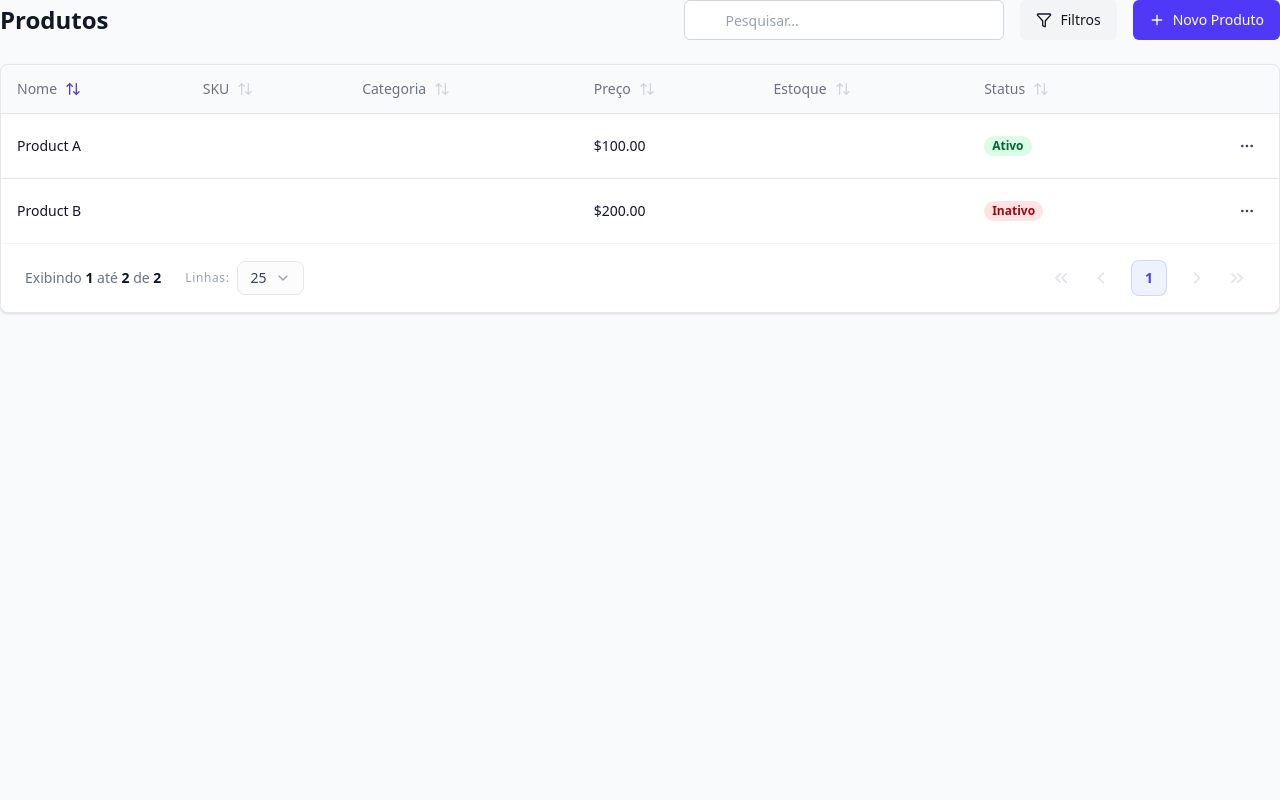
Test case: ProductListPage › handles delete mutation error
Expected: the text "Product A" is shown, x1=17 y1=136 x2=81 y2=154
Click the button named "Abrir menu" in the row of "Product A": point(1247, 146) x1=1231 y1=130 x2=1263 y2=162
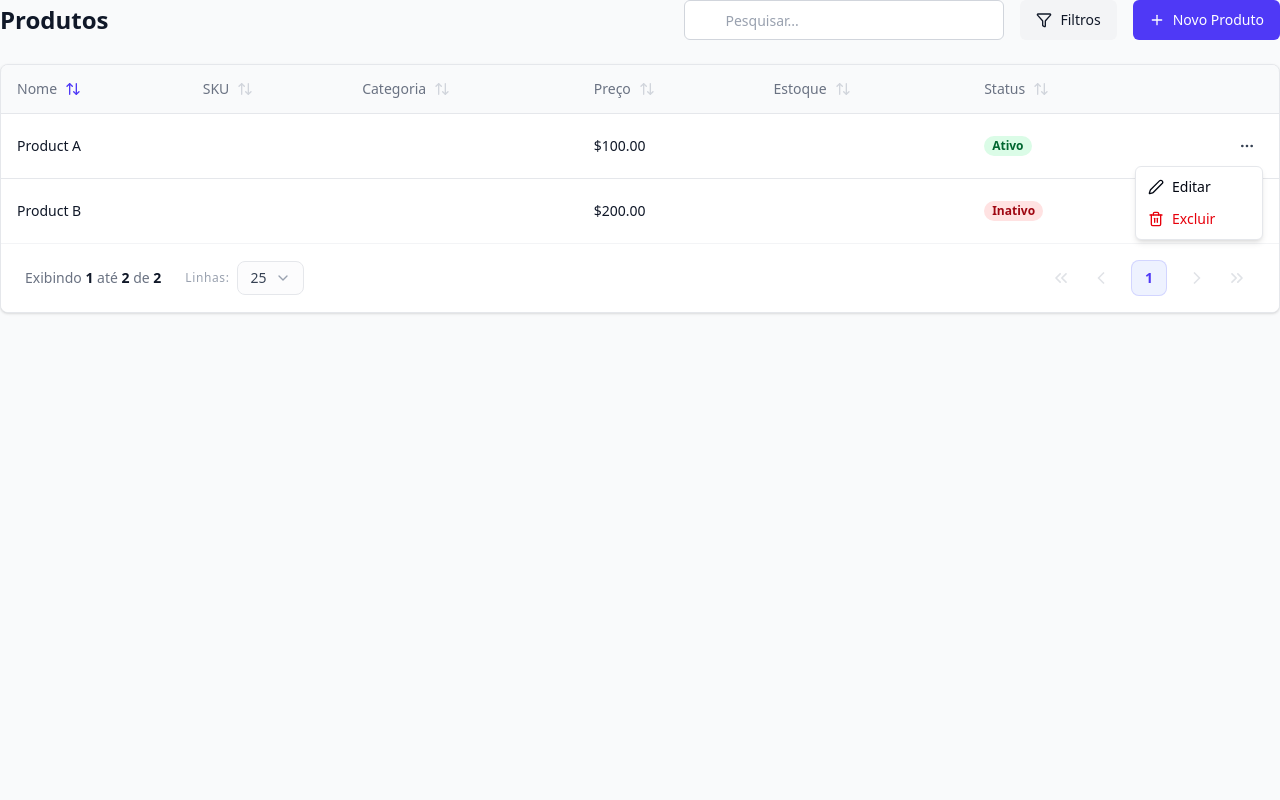
Click the menu item "Excluir": point(1182, 218) x1=1148 y1=209 x2=1215 y2=228
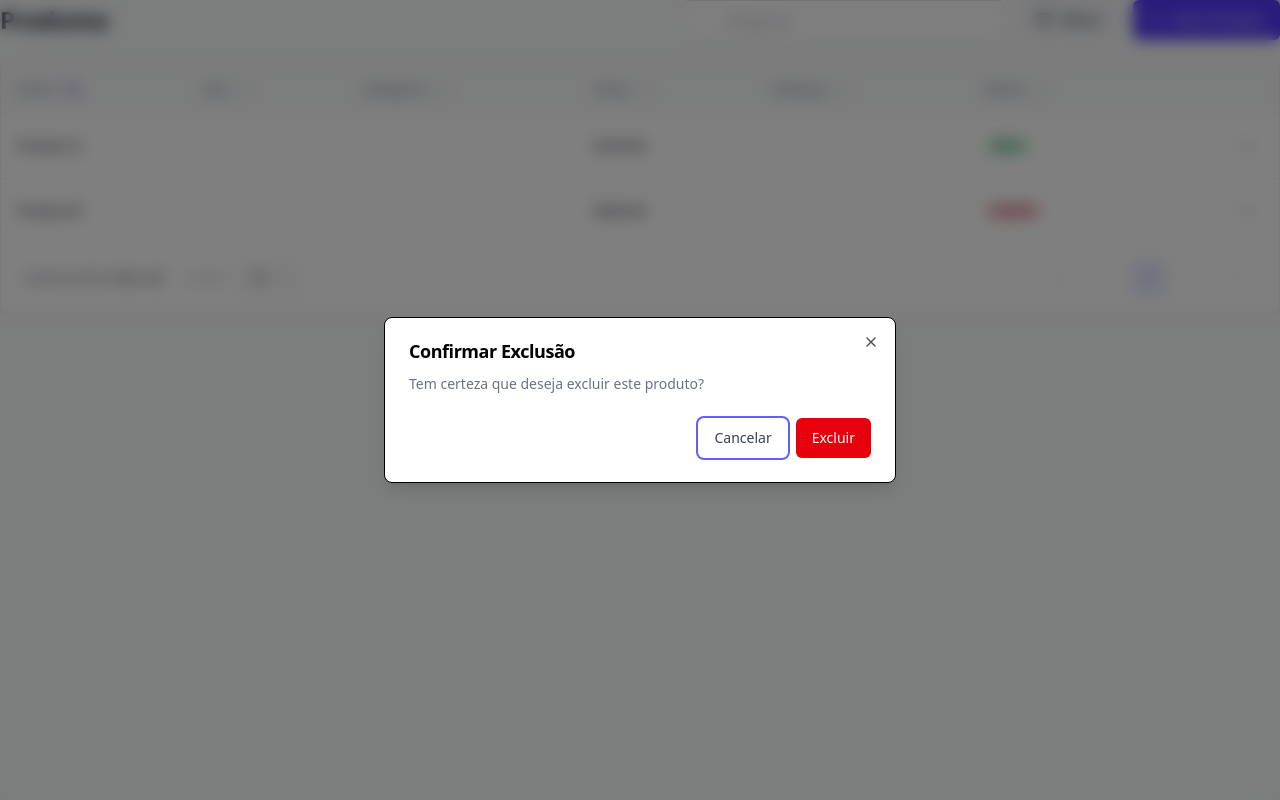
Click the button "Excluir": point(833, 438) x1=796 y1=418 x2=871 y2=458
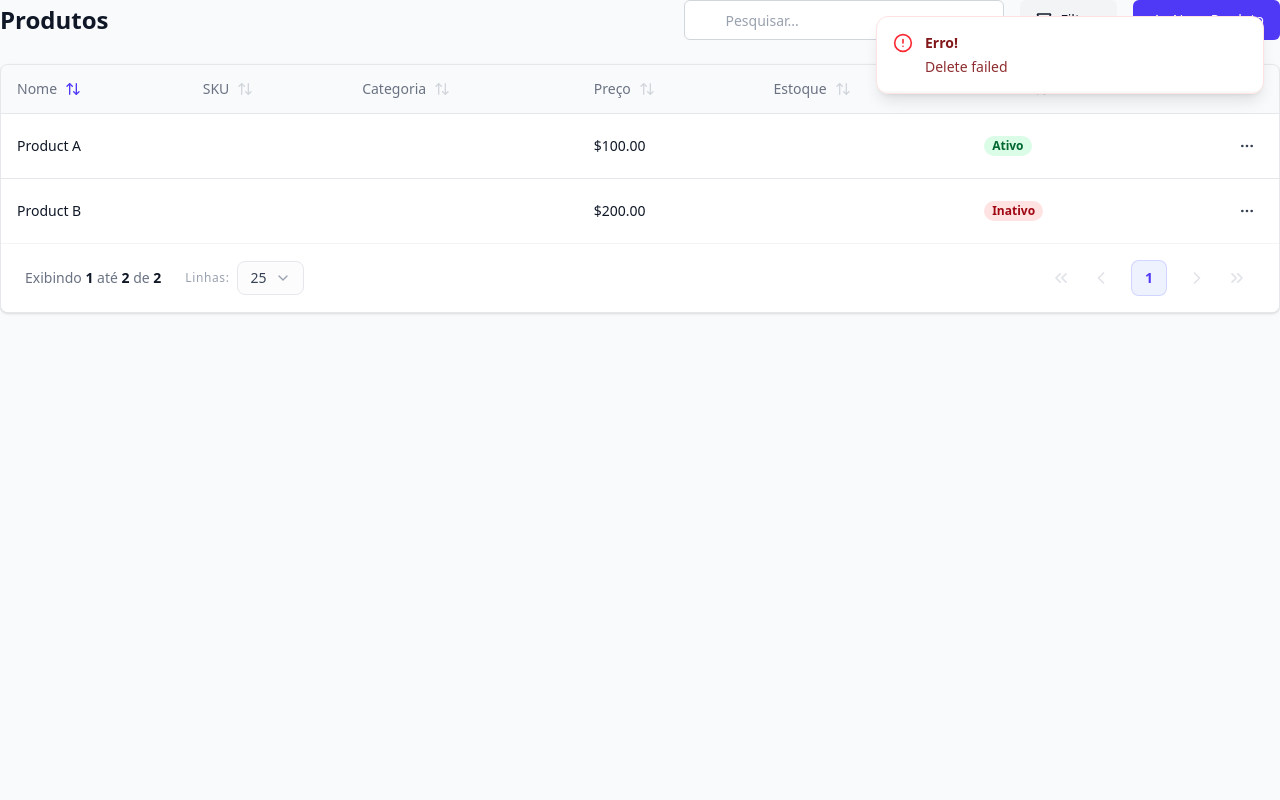
Expected: the text "Delete failed" is shown, x1=925 y1=57 x2=1008 y2=77
